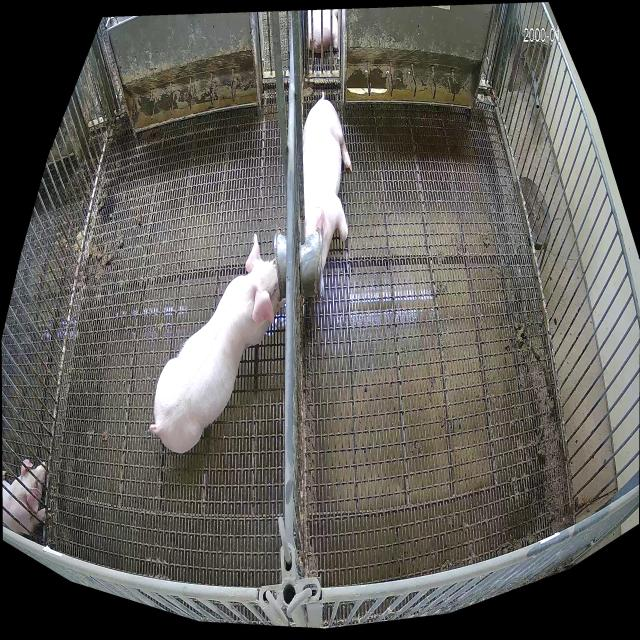pig: (150, 232, 284, 451), (302, 91, 352, 271)
